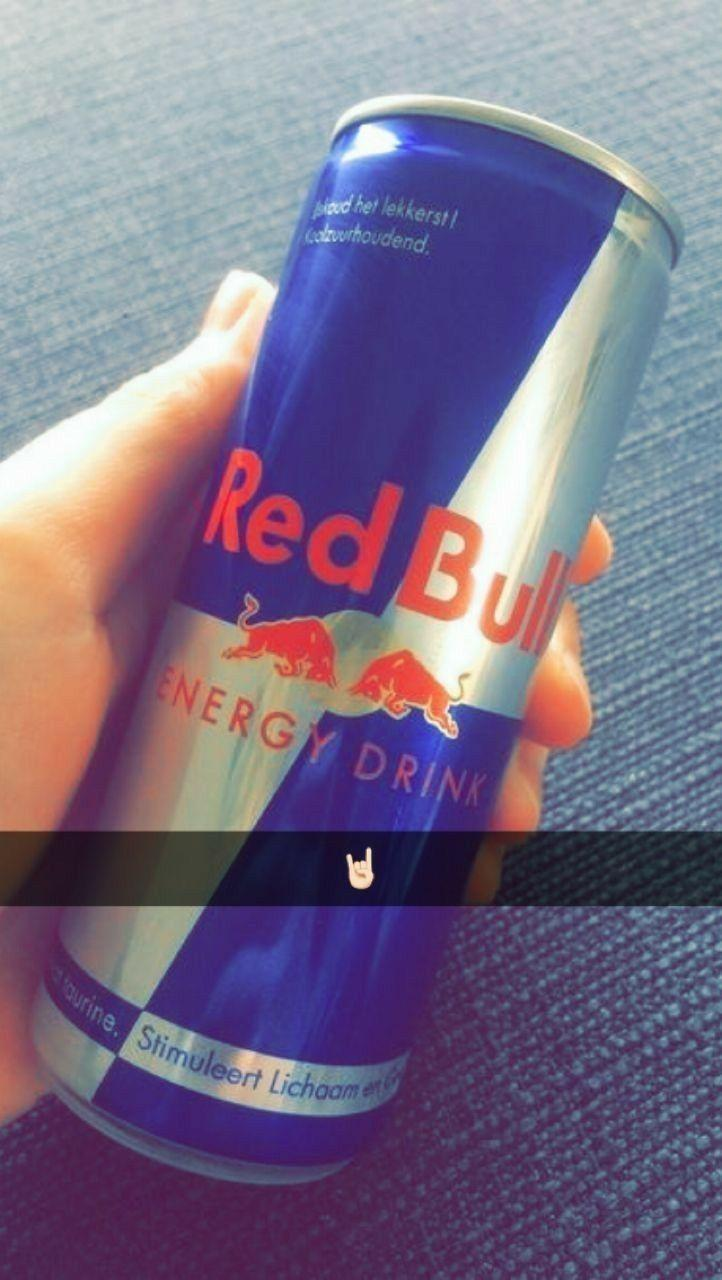tin can: (26, 84, 687, 1180)
